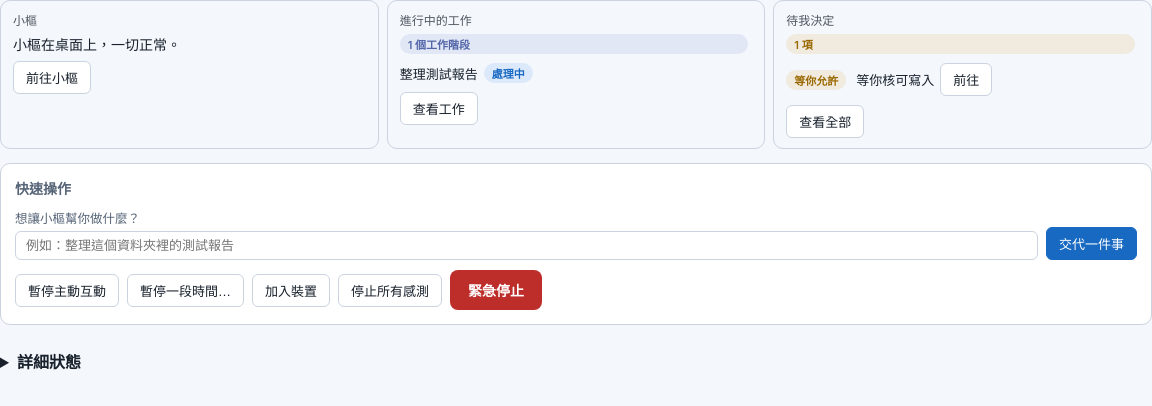
快速操作：停止所有感測（誠實階梯） › N3-UI-STOP-HISTORY: fresh historical unknown prevents the home success notice
Check: the text "小樞在桌面上，一切正常。" is shown, box [13, 36, 181, 53]
Click the button "停止所有感測": (390, 290) [338, 274, 442, 306]
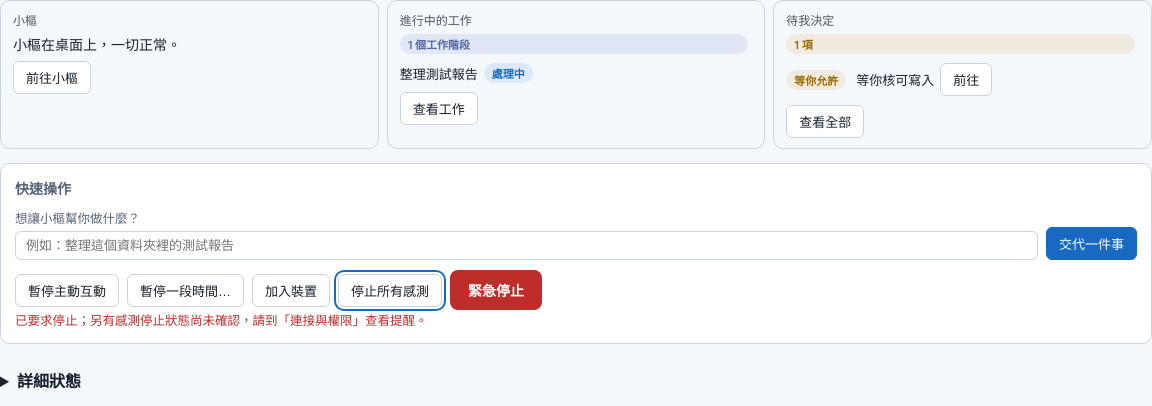
Check: the message shows "尚未確認", box [15, 313, 428, 328]
